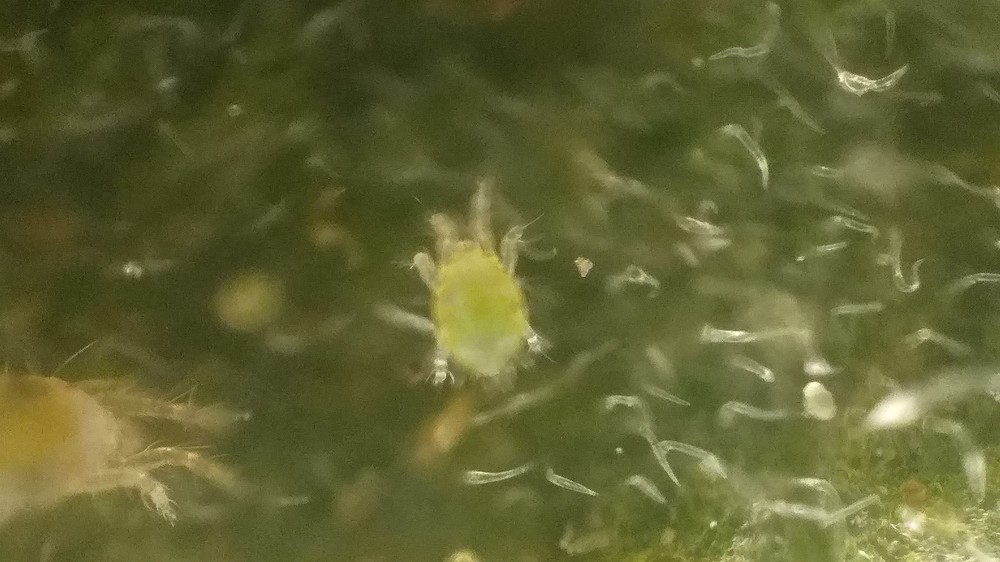Aracnido Rojo: (1, 323, 276, 543), (394, 178, 568, 399)
